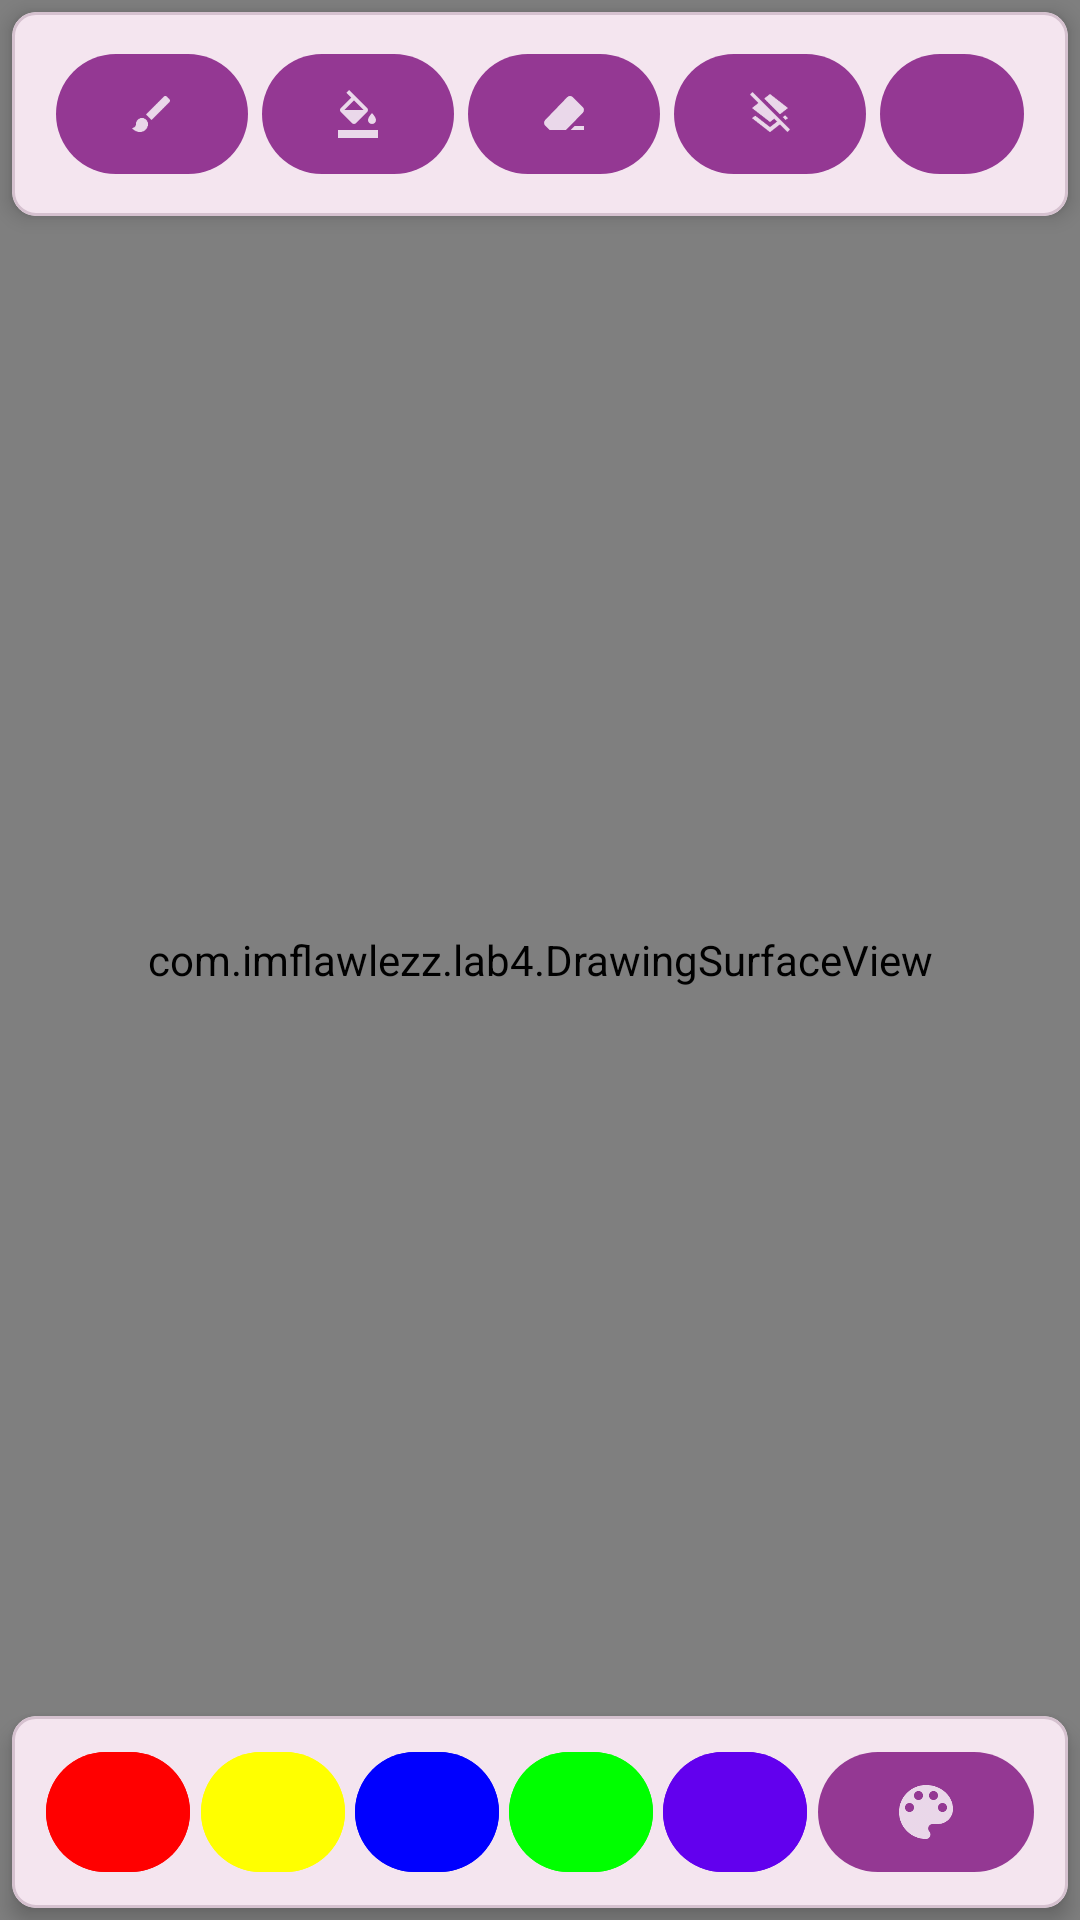

Icon bounding boxes for this 1080*1920 phone screenshot, format (x1, y1, x2, y2):
brush: (56, 54, 248, 174)
clear: (674, 54, 866, 174)
eraser: (468, 54, 660, 174)
picker: (818, 1752, 1034, 1872)
